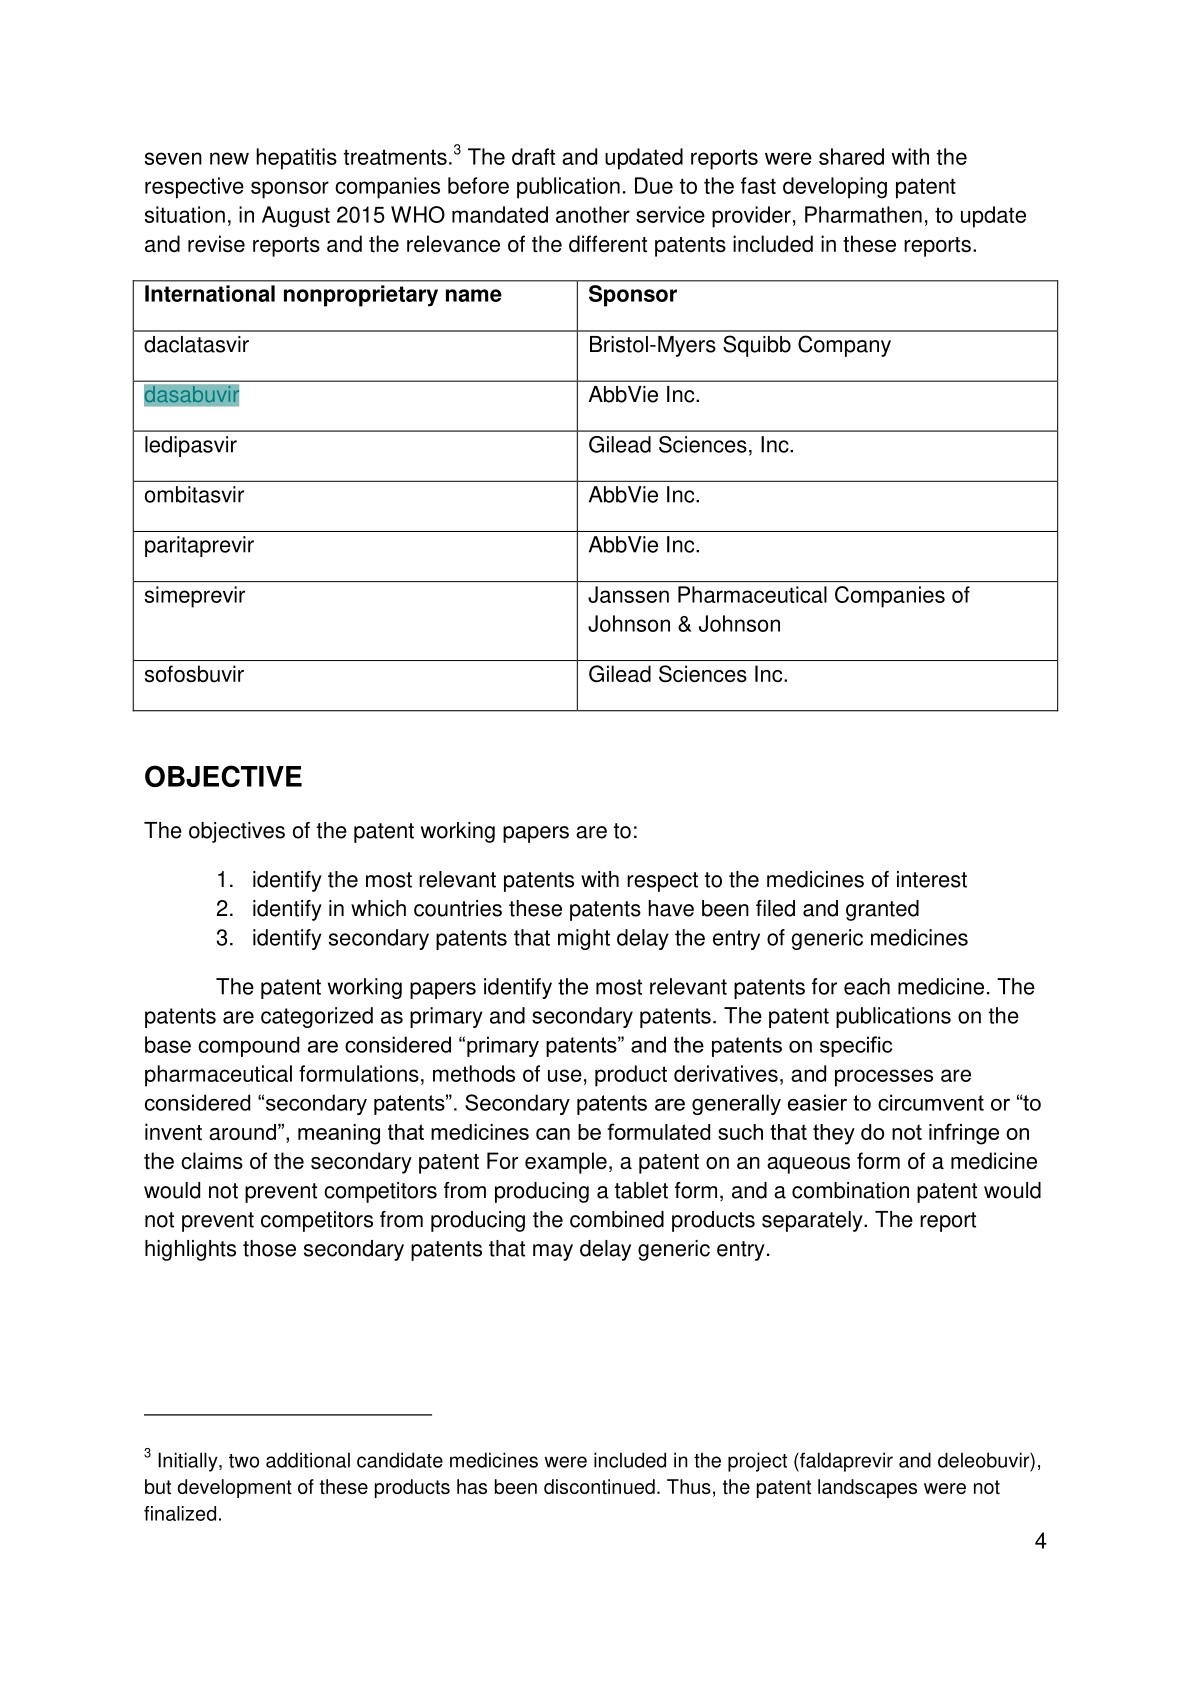full_lined: (131, 278, 1060, 713)
